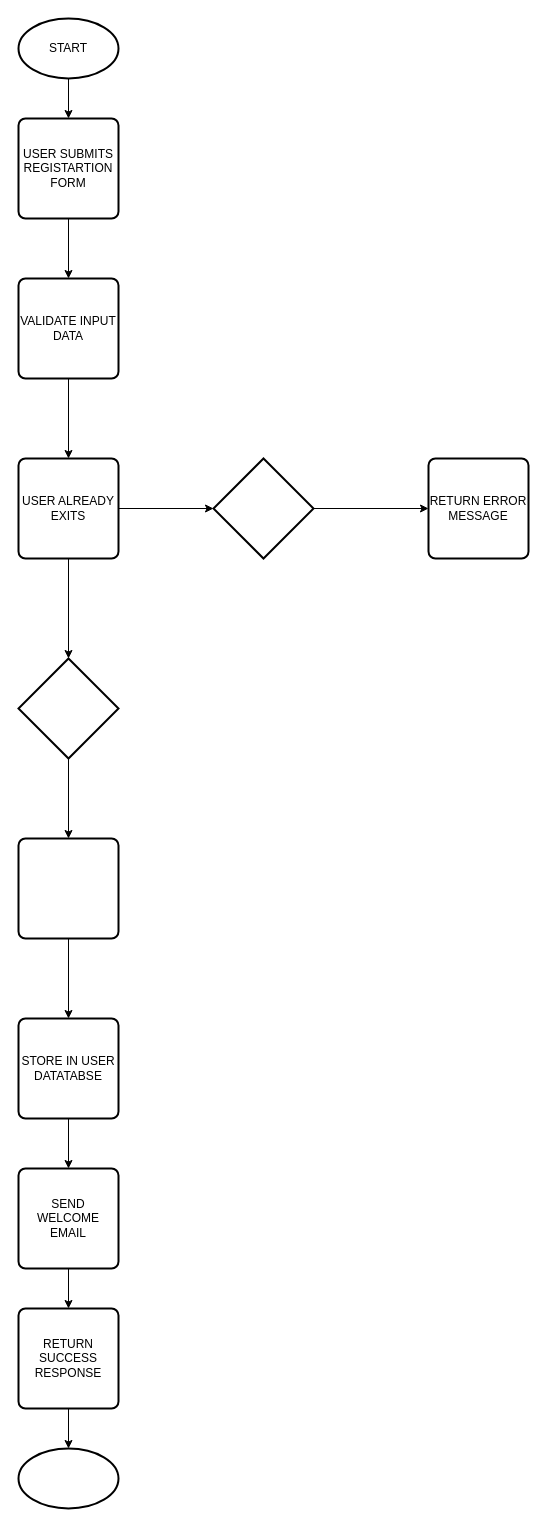
Some shapes in this 546 by 1526 pixel diagram are drawn without their labels. Each missing label, with the box of its shape:
END: (17, 1447, 119, 1509)
HASH PASSWORD: (17, 837, 119, 939)
NO: (17, 657, 119, 759)
YES: (212, 457, 314, 559)
